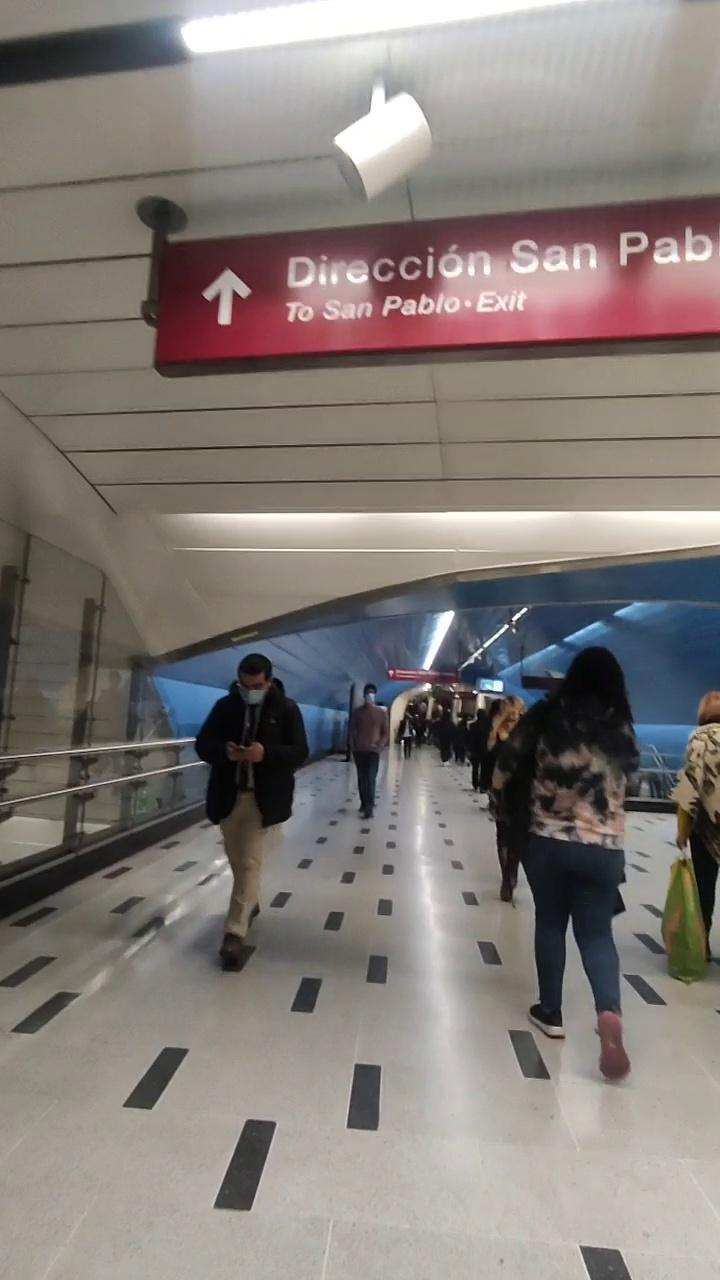up arrow: (190, 270, 258, 335)
